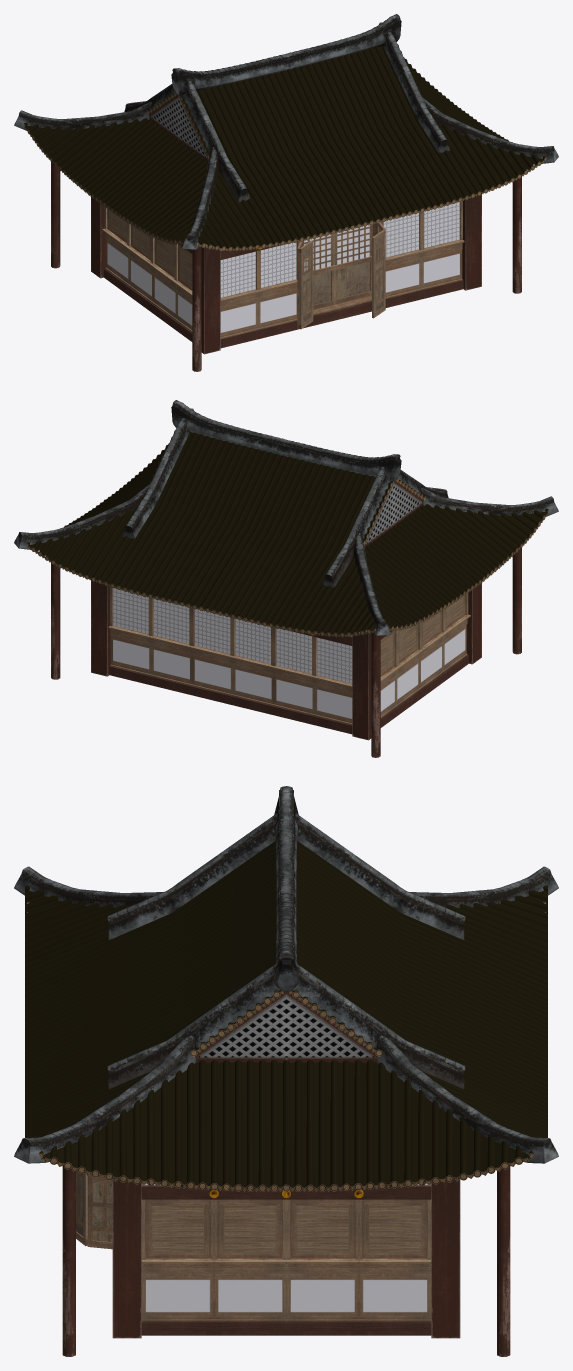
Rendered from china_house_large.glb.
3 views of the same model, one above another, from view 1: azimuth 30°, elevation 25°; view 2: azimuth 150°, elevation 25°; view 3: azimuth 270°, elevation 25° (orthographic). The views are drawn at different scales.
Parts seen in each view (by area): view 1: Object_4, Object_3, Object_9, Object_7, Object_8, Object_2, Object_5; view 2: Object_4, Object_9, Object_3, Object_8, Object_2, Object_5; view 3: Object_4, Object_3, Object_8, Object_2, Object_5, Object_7.
Boxes of the visible parts, x1,y1,x2,y2 form: Object_4: [24, 45, 545, 248]; Object_3: [14, 22, 558, 371]; Object_9: [209, 155, 464, 348]; Object_7: [297, 222, 385, 329]; Object_8: [102, 207, 192, 341]; Object_2: [171, 14, 401, 95]; Object_5: [24, 44, 546, 251]; Object_4: [27, 431, 548, 634]; Object_9: [108, 586, 352, 734]; Object_3: [14, 408, 558, 757]; Object_8: [380, 593, 470, 727]; Object_2: [171, 400, 401, 481]; Object_5: [26, 430, 548, 637]; Object_4: [25, 841, 547, 1187]; Object_3: [14, 813, 558, 1356]; Object_8: [141, 1183, 431, 1335]; Object_2: [274, 786, 298, 991]; Object_5: [38, 991, 534, 1191]; Object_7: [76, 1170, 112, 1249].
Bounding box in the file's own units: 923 × 556 × 753.
8 materials, 7 textured.
